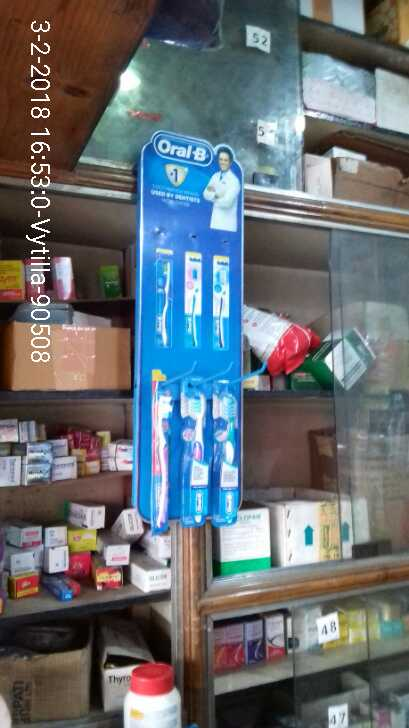oralb: (179, 379, 212, 524), (211, 379, 242, 528), (152, 369, 172, 536)
